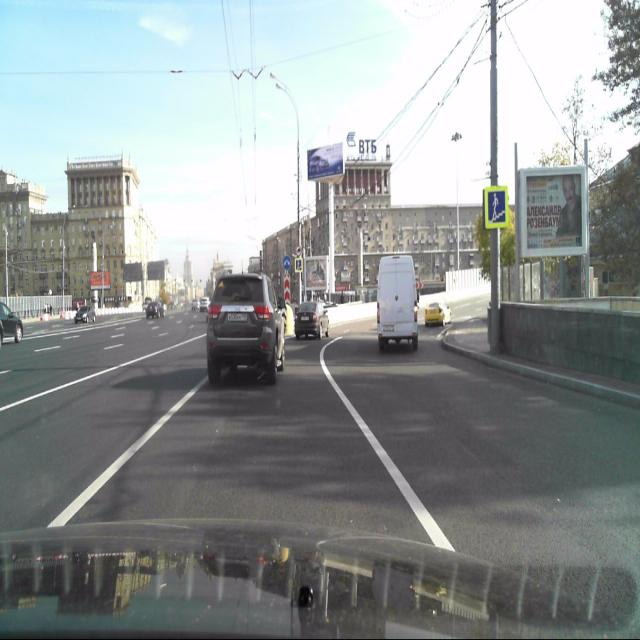road sign: (484, 186, 508, 228), (294, 256, 302, 272)
